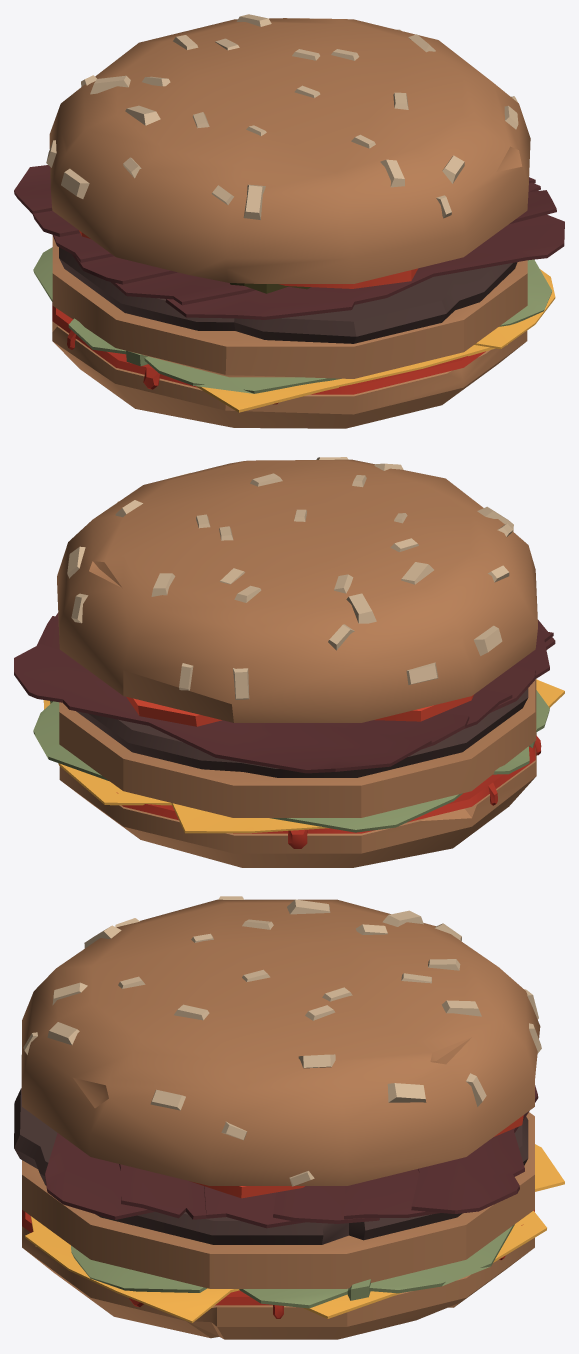
Rendered from SM_Burger.fbx.
3 renders of one model, top to bottom at view 1: azimuth 30°, elevation 25°; view 2: azimuth 150°, elevation 25°; view 3: azimuth 270°, elevation 25°, orthographic. The views are drawn at different scales.
Visible parts, largest first — view 1: SM_Burger; view 2: SM_Burger; view 3: SM_Burger.
Boxes of the visible parts, x1,y1,x2,y2 form: SM_Burger: (14,14,564,428); SM_Burger: (14,457,564,867); SM_Burger: (14,896,564,1339).
Size of the model in its own units: 11.67 by 6.55 by 11.54.
